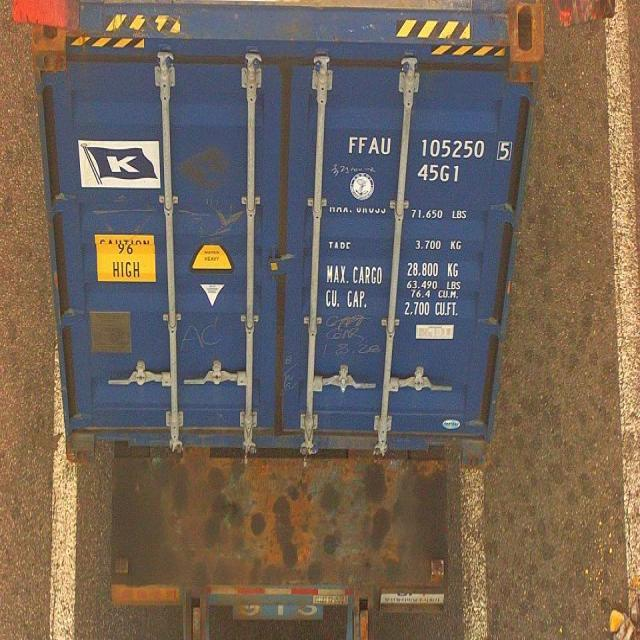ISO: (418, 160, 462, 183)
container_number: (348, 130, 512, 162)
